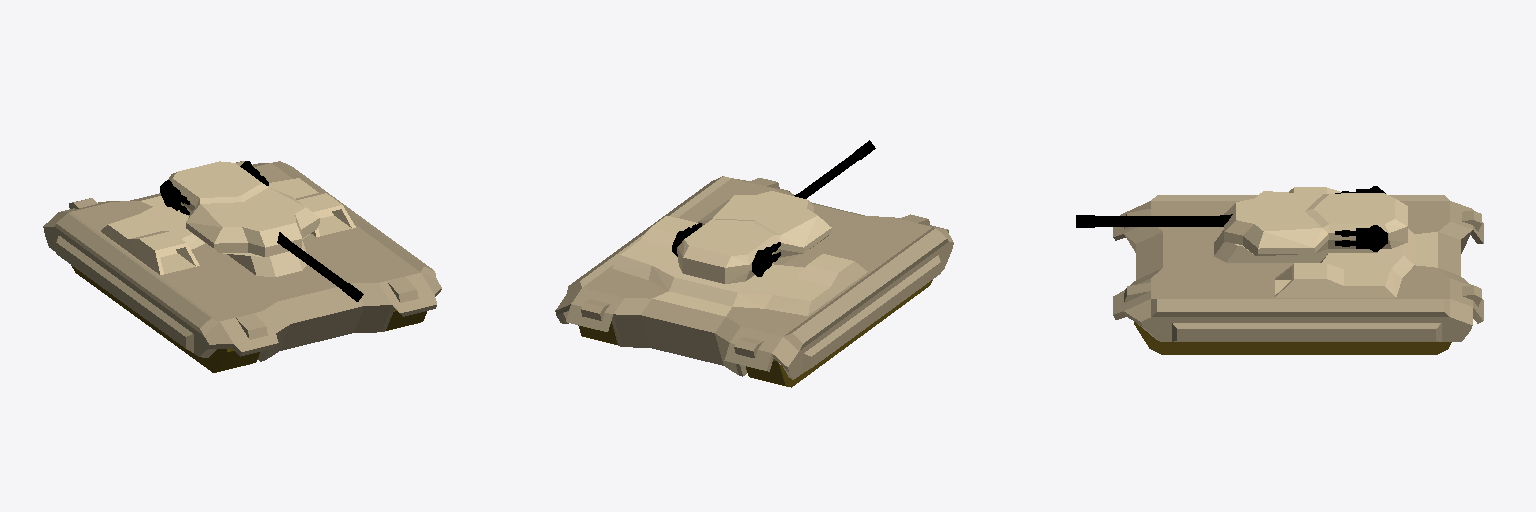
File: TankOrig-lores.obj
The picture shows the model from 3 angles: view 1: azimuth 30°, elevation 25°; view 2: azimuth 150°, elevation 25°; view 3: azimuth 270°, elevation 25°; orthographic projection.
Parts seen in each view (by area): view 1: Body, Turret, Cannon, MachineGun; view 2: Body, Turret, MachineGun, Cannon; view 3: Body, Turret, Cannon, MachineGun.
Boxes of the visible parts, box(x1,y1,x2,y2) form: Body: box(43, 161, 441, 372); Turret: box(168, 161, 319, 256); Cannon: box(277, 232, 363, 301); MachineGun: box(160, 161, 268, 214); Body: box(555, 176, 953, 387); Turret: box(677, 191, 831, 283); MachineGun: box(672, 223, 780, 276); Cannon: box(794, 140, 875, 198); Body: box(1113, 187, 1483, 354); Turret: box(1224, 191, 1407, 255); Cannon: box(1076, 214, 1232, 227); MachineGun: box(1335, 186, 1387, 251).
Size of the model in its own units: 6.9 by 2.68 by 10.